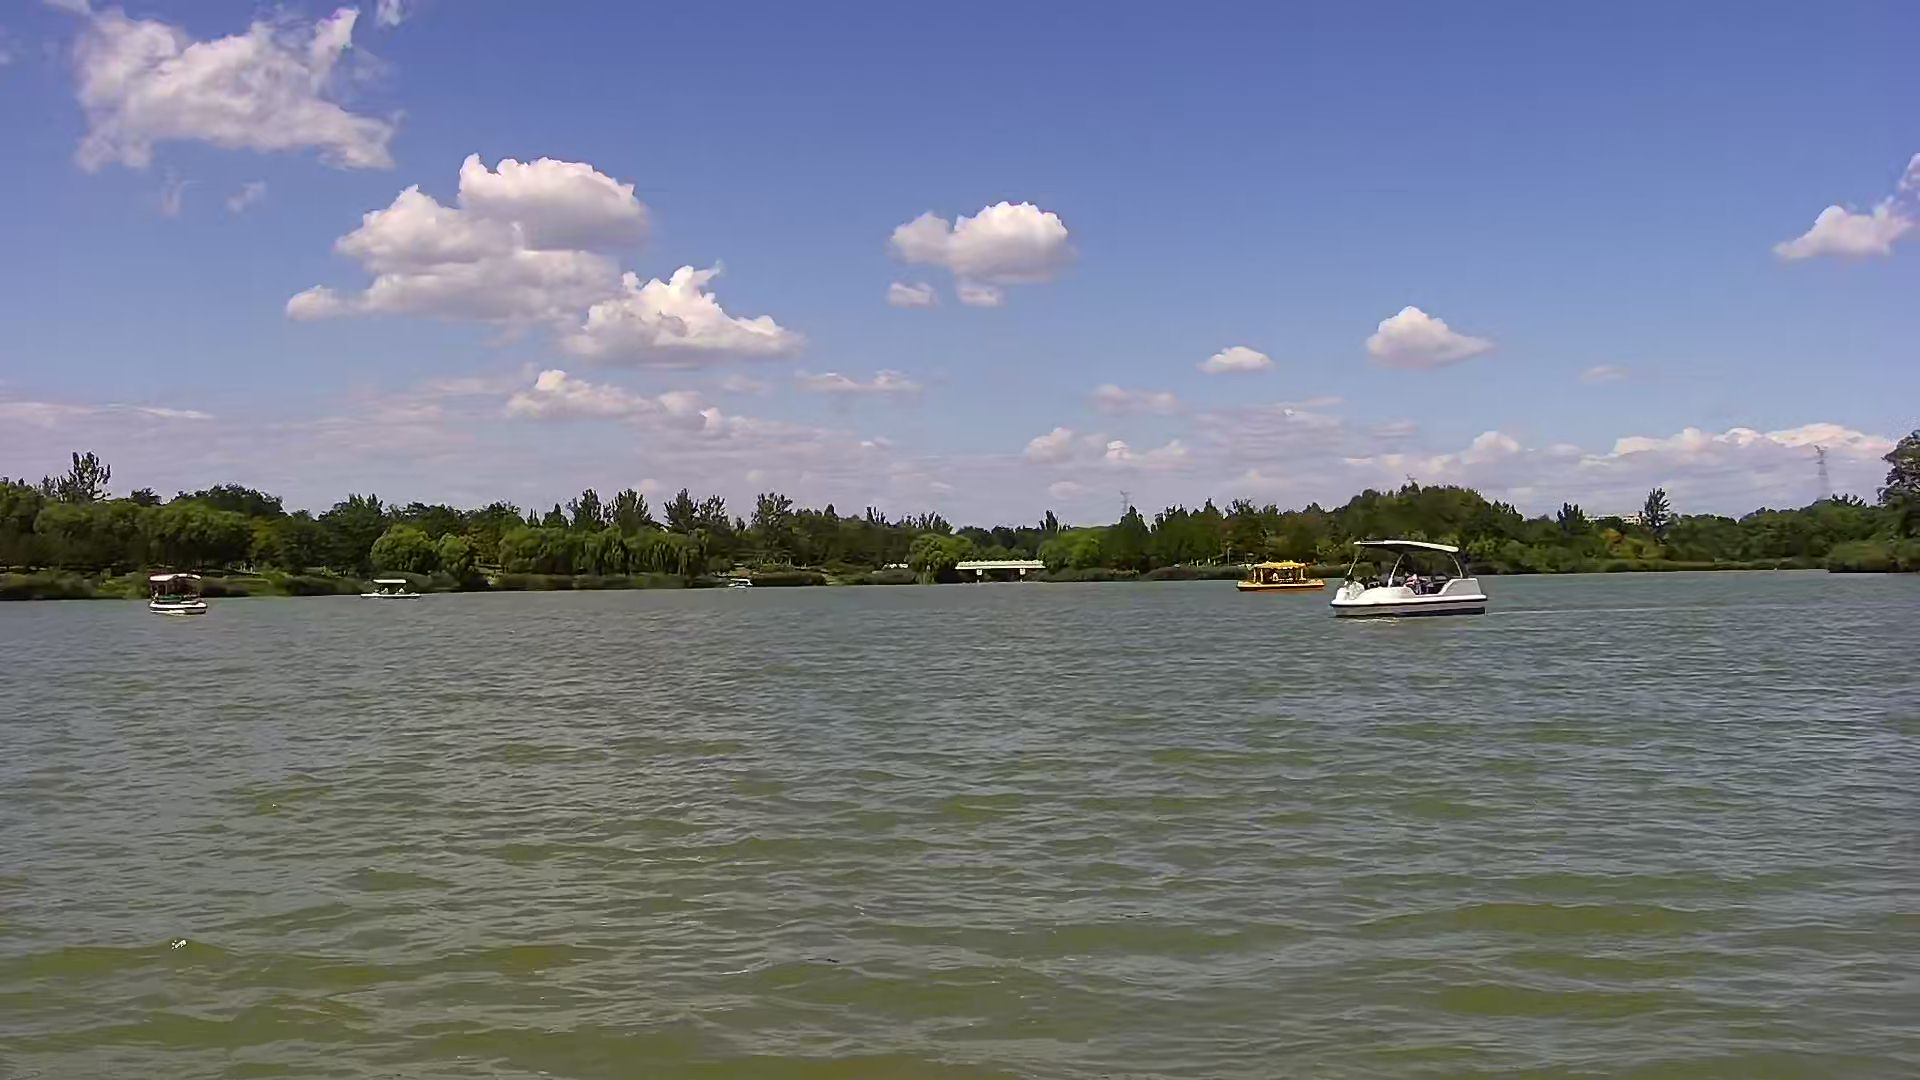boat: (1329, 534, 1489, 615), (1237, 554, 1321, 591), (145, 571, 200, 615), (357, 578, 421, 601)
bridge: (960, 556, 1040, 583)
